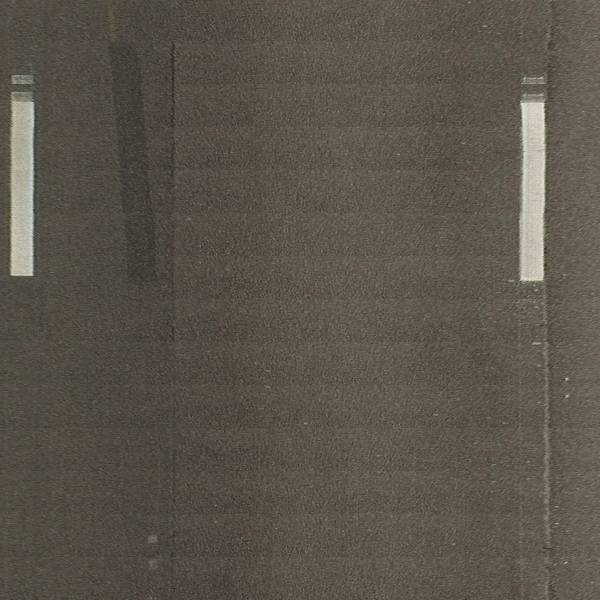road_damage: (167, 38, 185, 176)
